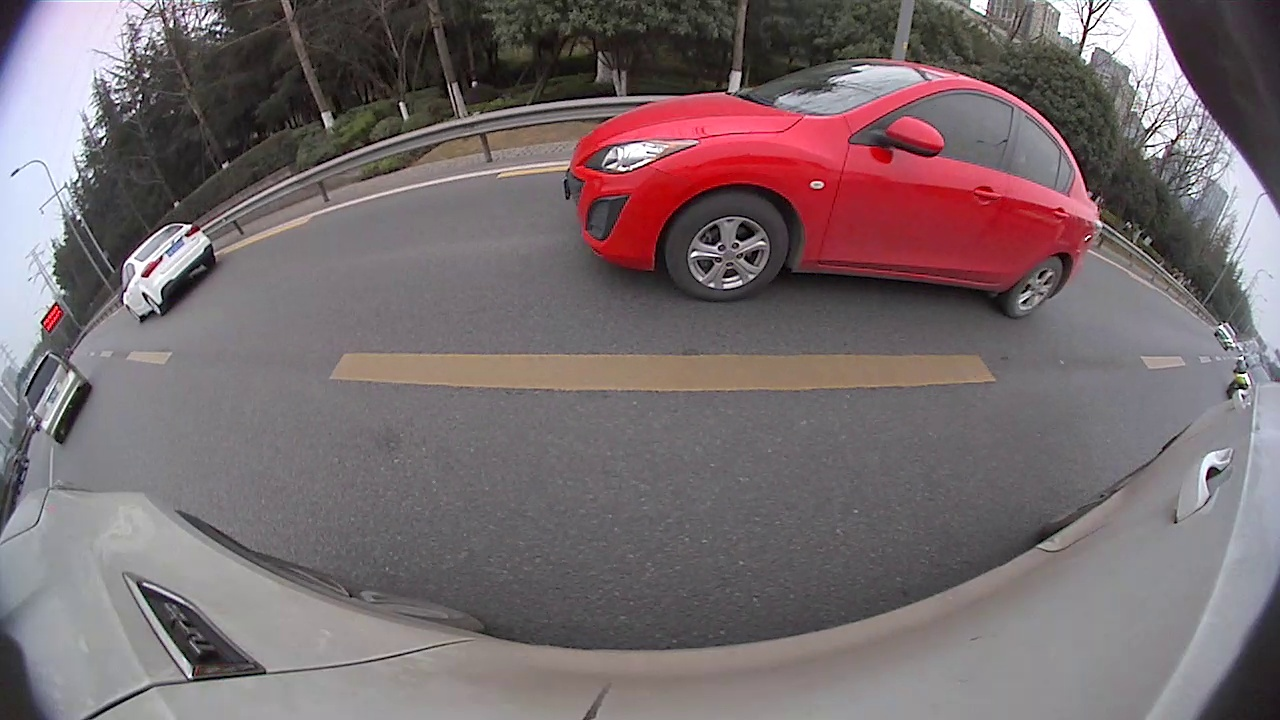bus: (910, 135, 1267, 371), (718, 135, 781, 188)
car: (45, 120, 448, 407), (785, 151, 948, 237), (596, 136, 697, 217), (461, 152, 556, 213)
front: (409, 194, 446, 258), (943, 202, 969, 233), (787, 182, 801, 204)
rear: (175, 272, 272, 390), (1092, 254, 1133, 303), (842, 192, 862, 224), (526, 182, 536, 207)
